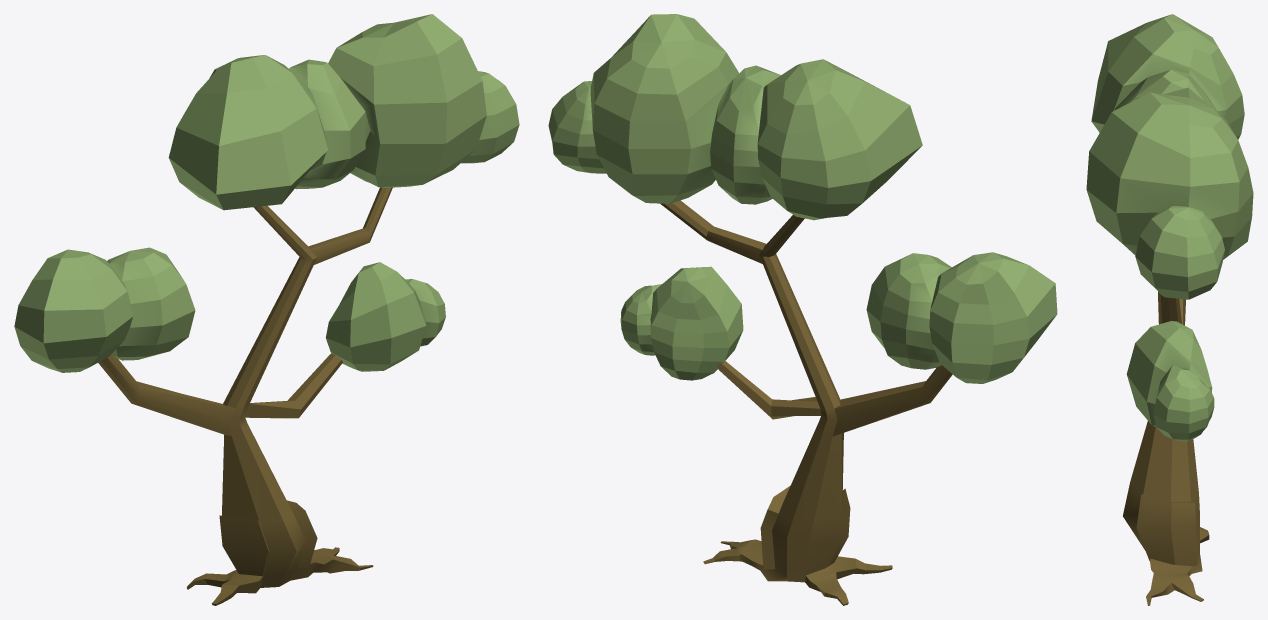
Rendered from tree002.fbx.
3 renders of one model, left to right at view 1: azimuth 30°, elevation 25°; view 2: azimuth 150°, elevation 25°; view 3: azimuth 270°, elevation 25°, orthographic. The views are drawn at different scales.
Visible parts, largest first — view 1: tree002; view 2: tree002; view 3: tree002.
Part boxes in pixels (x1=…): tree002: x1=14, y1=14, x2=519, y2=605; tree002: x1=548, y1=14, x2=1057, y2=605; tree002: x1=1086, y1=14, x2=1253, y2=605.
Size of the model in its own units: 20.29 by 5.89 by 21.05.
